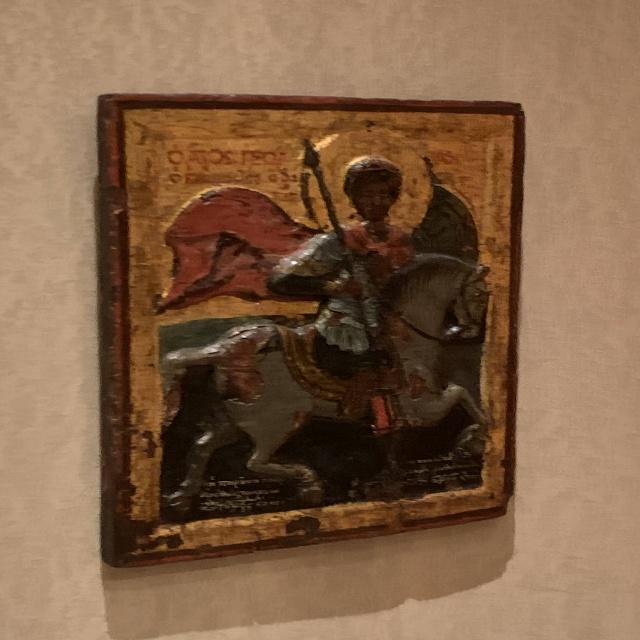horse: (190, 259, 490, 495)
spear: (295, 143, 400, 488)
st_george: (156, 129, 491, 513)
